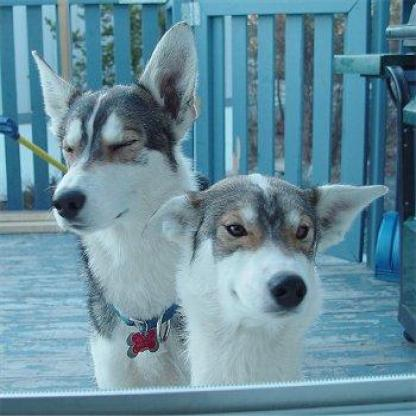Eskimo_dog: (29, 17, 196, 390), (138, 174, 389, 387)
